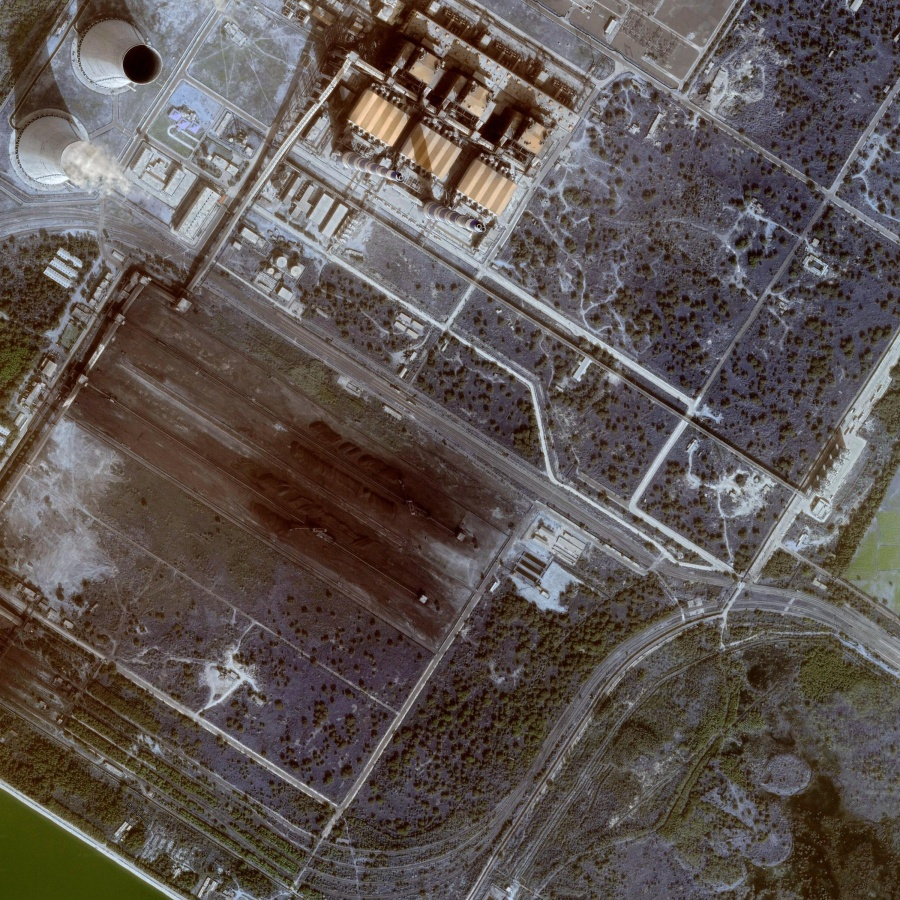PowerPlant: (50, 268, 524, 646)
